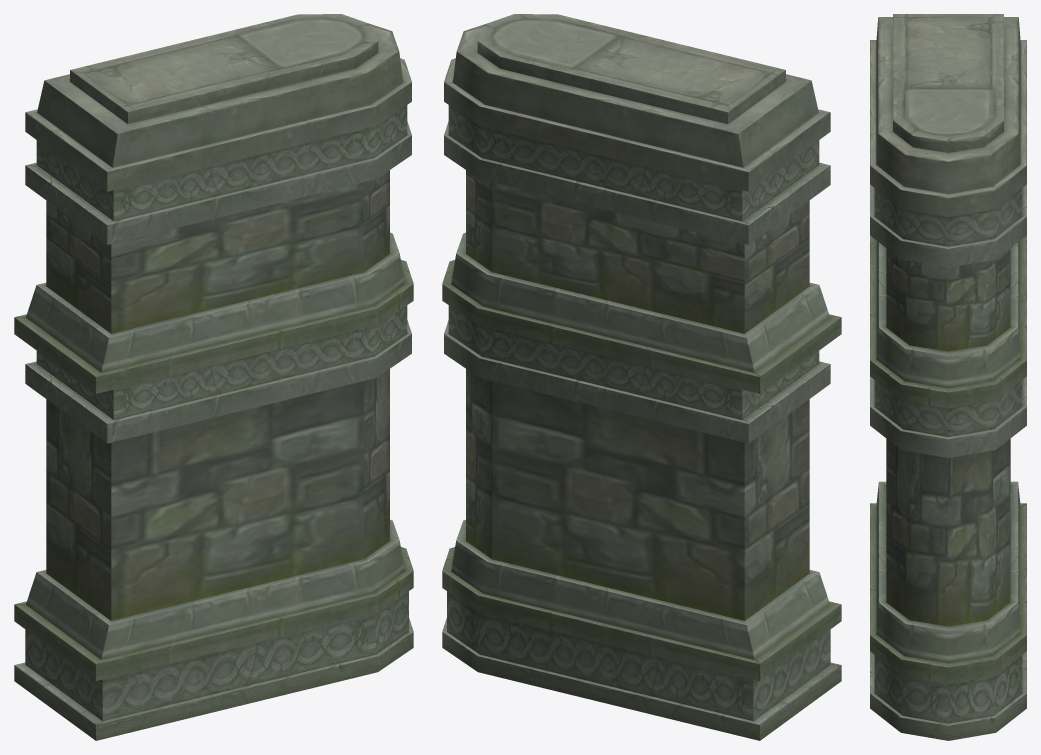
The model's file is wlf_qiang01_w.FBX.
3 renders of one model, left to right at view 1: azimuth 30°, elevation 25°; view 2: azimuth 150°, elevation 25°; view 3: azimuth 270°, elevation 25°, orthographic. The views are drawn at different scales.
Visible parts, largest first — view 1: wlf_qiang01_w; view 2: wlf_qiang01_w; view 3: wlf_qiang01_w.
Boxes of the visible parts, bbox=[...] form: wlf_qiang01_w: bbox=[14, 14, 413, 740]; wlf_qiang01_w: bbox=[442, 14, 841, 740]; wlf_qiang01_w: bbox=[870, 14, 1026, 740].
Size of the model in its own units: 25.23 by 41.8 by 10.18.
